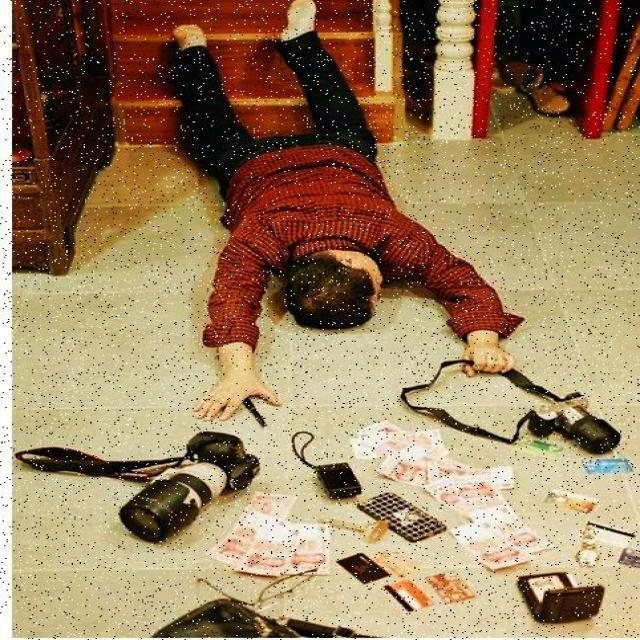fall: (157, 12, 514, 381)
